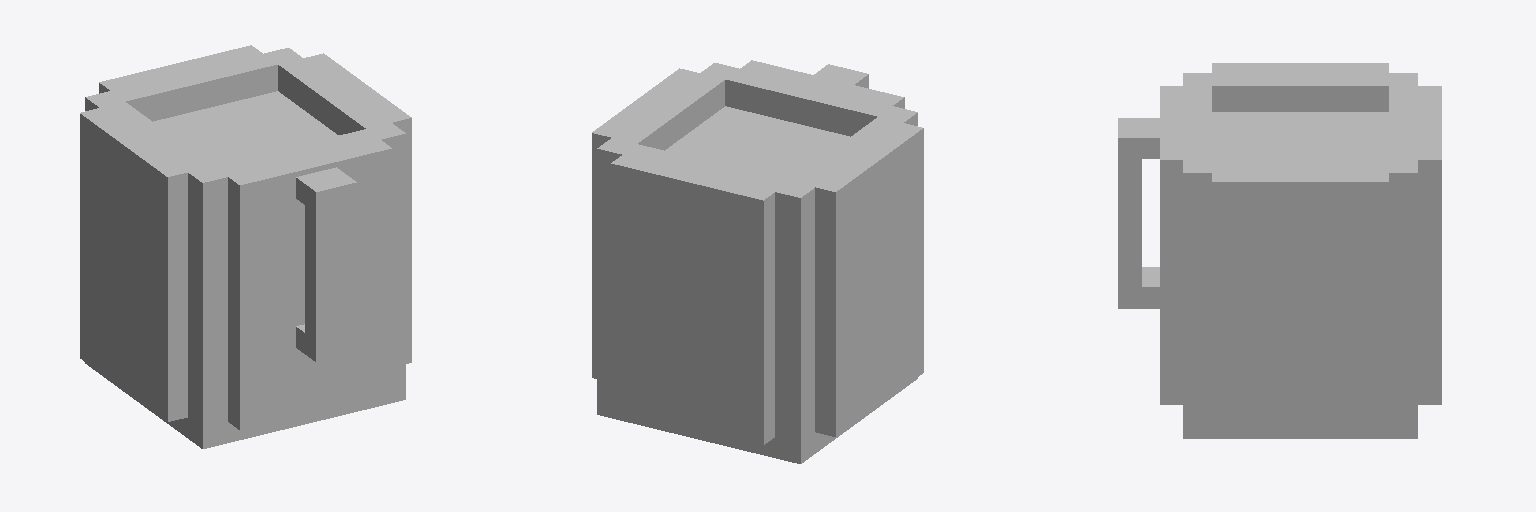
File: full_mug.obj
3 renders of one model, left to right at view 1: azimuth 30°, elevation 25°; view 2: azimuth 150°, elevation 25°; view 3: azimuth 270°, elevation 25°, orthographic.
Parts seen in each view (by area): view 1: cube; view 2: cube; view 3: cube.
Boxes of the visible parts, <box> form: cube: <box>80,45,411,448</box>; cube: <box>592,60,923,463</box>; cube: <box>1118,63,1441,438</box>.
Size of the model in its own units: 0.6 by 0.625 by 0.6875.